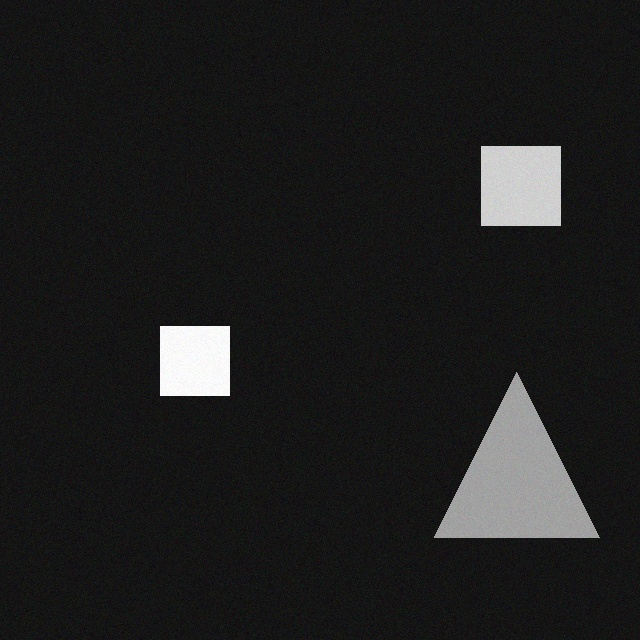square: (469, 151, 548, 230), (148, 331, 217, 400)
triangle: (422, 377, 587, 542)
